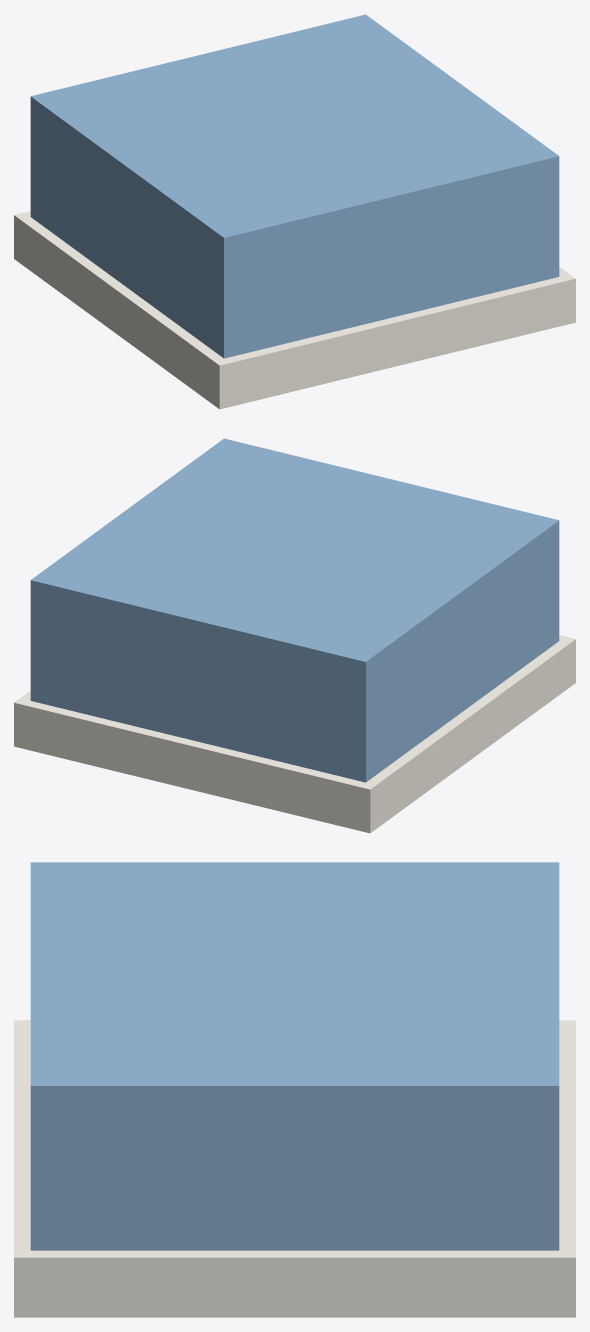
File: pirata_sereia_manga_sup.glb
The picture shows the model from 3 angles, top to bottom: view 1: azimuth 30°, elevation 25°; view 2: azimuth 150°, elevation 25°; view 3: azimuth 270°, elevation 25°; orthographic projection. The views are drawn at different scales.
Parts seen in each view (by area): view 1: pirata_sereia_manga_sup; view 2: pirata_sereia_manga_sup; view 3: pirata_sereia_manga_sup.
Part boxes in pixels (box(x1,y1,x2,y2)): pirata_sereia_manga_sup: box(14, 14, 575, 409); pirata_sereia_manga_sup: box(14, 438, 575, 833); pirata_sereia_manga_sup: box(14, 862, 575, 1317).
Bounding box in the file's own units: 0.34 × 0.15 × 0.34.
